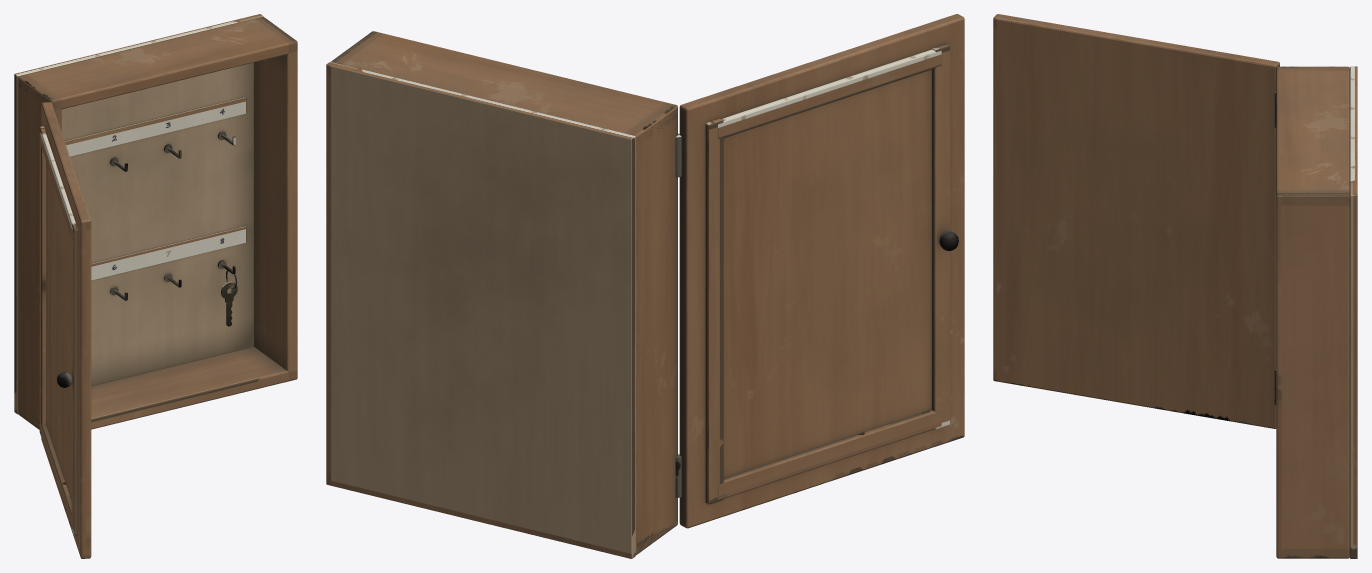
The model's file is KeyCabinet.fbx.
The picture shows the model from 3 angles, left to right: view 1: azimuth 30°, elevation 25°; view 2: azimuth 150°, elevation 25°; view 3: azimuth 270°, elevation 25°; orthographic projection. The views are drawn at different scales.
Visible parts, largest first — view 1: KeyCabinet_Mesh; view 2: KeyCabinet_Mesh; view 3: KeyCabinet_Mesh.
Part boxes in pixels (x1,y1,x2,y2): KeyCabinet_Mesh: (14,14,297,558); KeyCabinet_Mesh: (326,14,964,558); KeyCabinet_Mesh: (993,14,1357,558).
Size of the model in its own units: 0.4615 by 0.42 by 0.3809.
